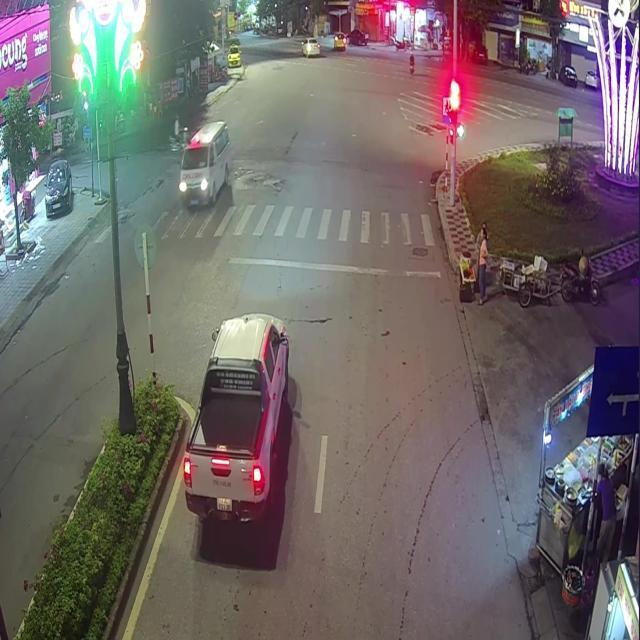car: (180, 312, 288, 522), (301, 36, 319, 55), (333, 31, 345, 50)
red_light: (450, 92, 457, 125)
stop_line: (226, 256, 440, 277)
